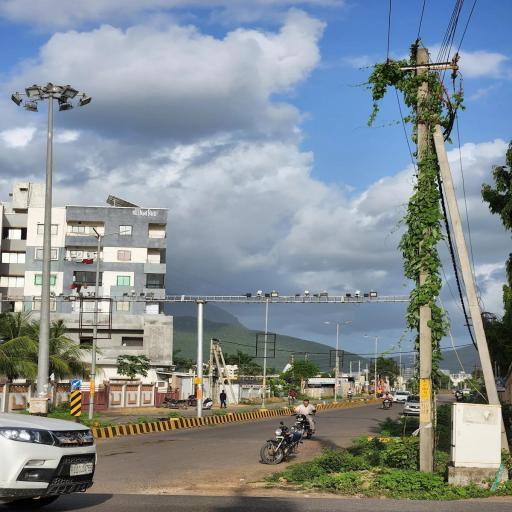building: (9, 188, 183, 420)
electric_pole: (367, 35, 506, 499)
streetlight: (6, 74, 98, 432), (233, 290, 287, 424), (320, 313, 356, 403)
